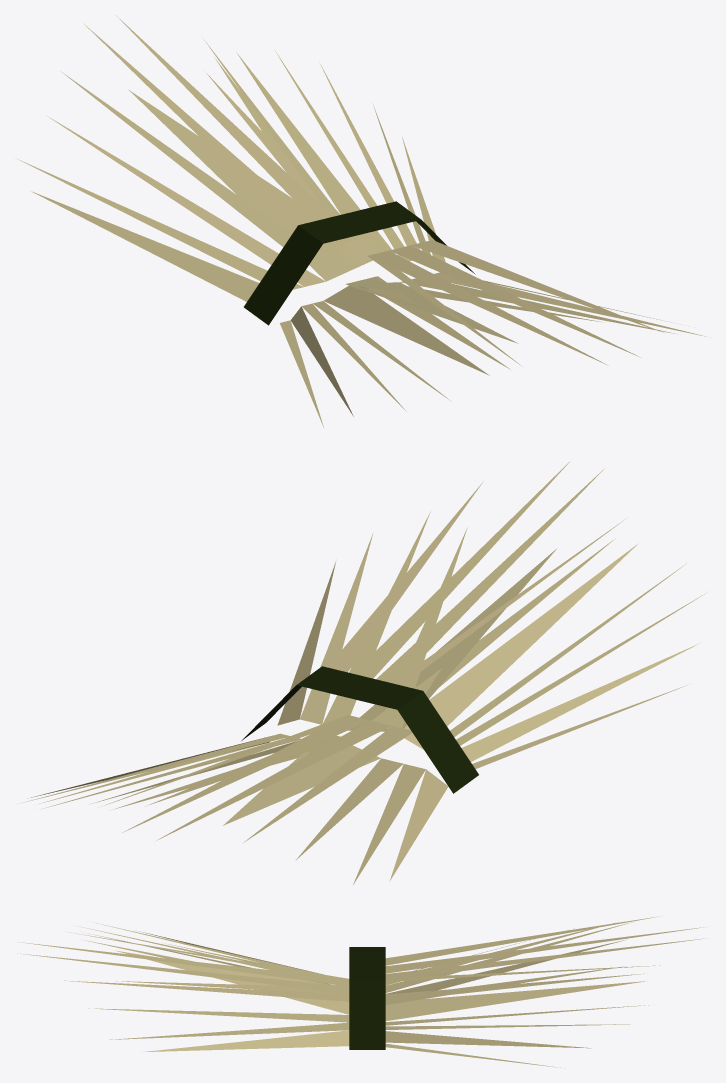
The picture shows the model from 3 angles, top to bottom: view 1: azimuth 30°, elevation 25°; view 2: azimuth 150°, elevation 25°; view 3: azimuth 270°, elevation 25°; orthographic projection. The views are drawn at different scales.
Parts seen in each view (by area): view 1: 2398; view 2: 2398; view 3: 2398.
Part boxes in pixels (bbox=[...]): 2398: bbox=[16, 15, 708, 427]; 2398: bbox=[21, 461, 705, 884]; 2398: bbox=[17, 916, 706, 1068].
Bounding box in the file's own units: 33 × 9 × 77.
